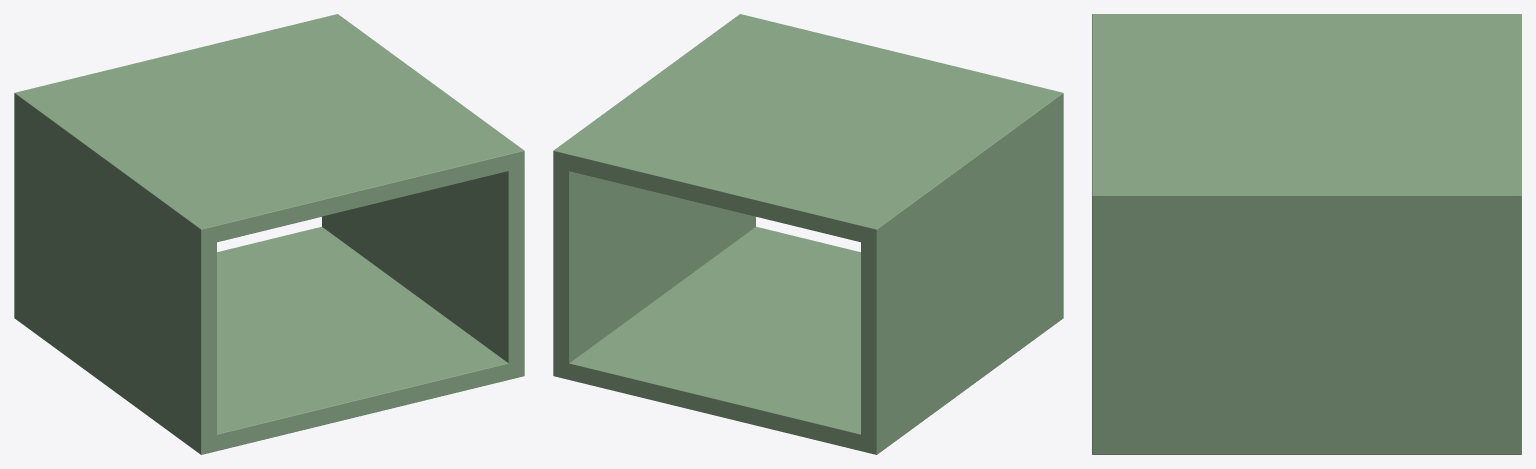
File: MOD-1X07-A-O-SA.glb
The picture shows the model from 3 angles, left to right: view 1: azimuth 30°, elevation 25°; view 2: azimuth 150°, elevation 25°; view 3: azimuth 270°, elevation 25°; orthographic projection. The views are drawn at different scales.
Size of the model in its own units: 360 by 240 by 360.
